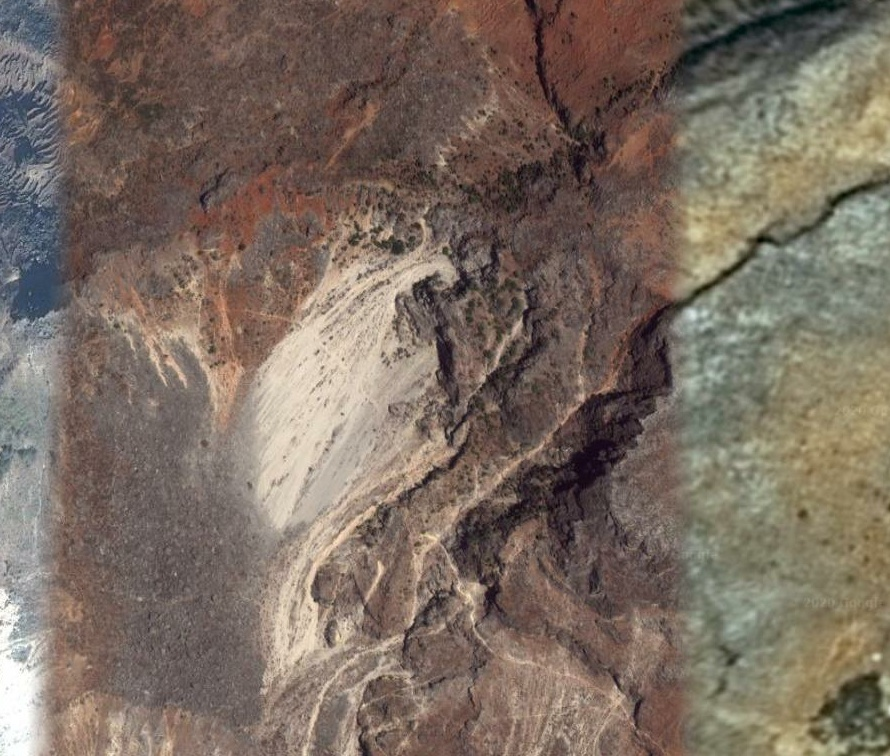slope: (236, 209, 473, 674)
